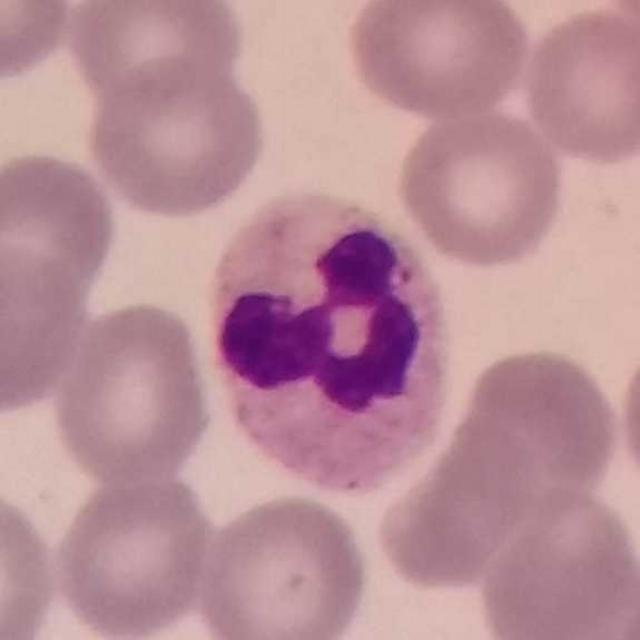Neutrophil: (203, 188, 454, 491)
RBC: (48, 296, 218, 486), (81, 55, 273, 222), (448, 342, 624, 511), (380, 415, 548, 592), (46, 469, 218, 640), (393, 107, 570, 271), (195, 489, 374, 640), (472, 483, 640, 640), (341, 0, 534, 121), (61, 0, 249, 111), (0, 144, 121, 316), (517, 10, 640, 173), (0, 238, 91, 420), (0, 482, 61, 640), (0, 0, 78, 89), (613, 327, 640, 512)
